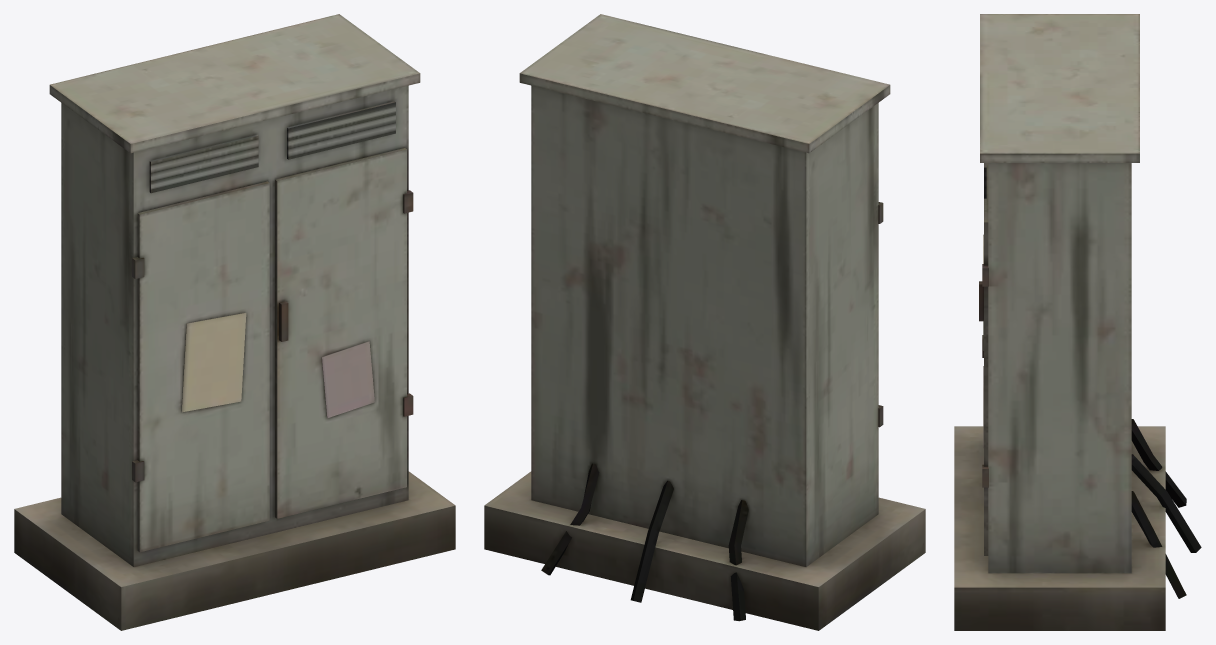
The model's file is electric_box.glb.
3 renders of one model, left to right at view 1: azimuth 30°, elevation 25°; view 2: azimuth 150°, elevation 25°; view 3: azimuth 270°, elevation 25°, orthographic.
Parts seen in each view (by area): view 1: body; view 2: body; view 3: body.
Part boxes in pixels (bbox=[...]): body: bbox=[14, 14, 455, 630]; body: bbox=[484, 14, 925, 630]; body: bbox=[954, 14, 1201, 630].
Size of the model in its own units: 1.12 by 1.52 by 0.7257.
1 material, 1 textured.
